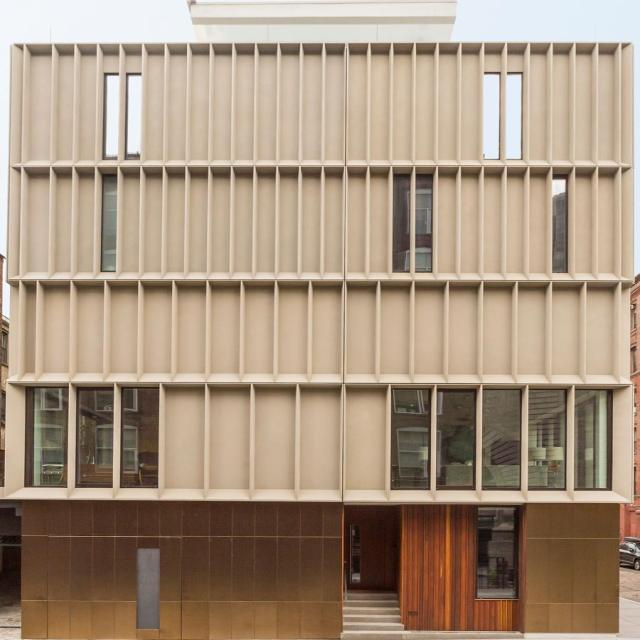door: (347, 505, 397, 587)
window: (392, 389, 433, 491), (483, 388, 524, 489), (438, 388, 478, 490), (576, 388, 615, 490), (30, 386, 69, 486), (530, 388, 566, 490), (480, 508, 520, 598), (123, 387, 159, 486), (78, 389, 114, 486), (395, 173, 413, 272), (417, 174, 433, 272), (484, 74, 501, 160), (104, 175, 118, 270), (106, 74, 120, 160), (510, 74, 524, 160), (556, 174, 568, 274), (131, 72, 141, 158)
